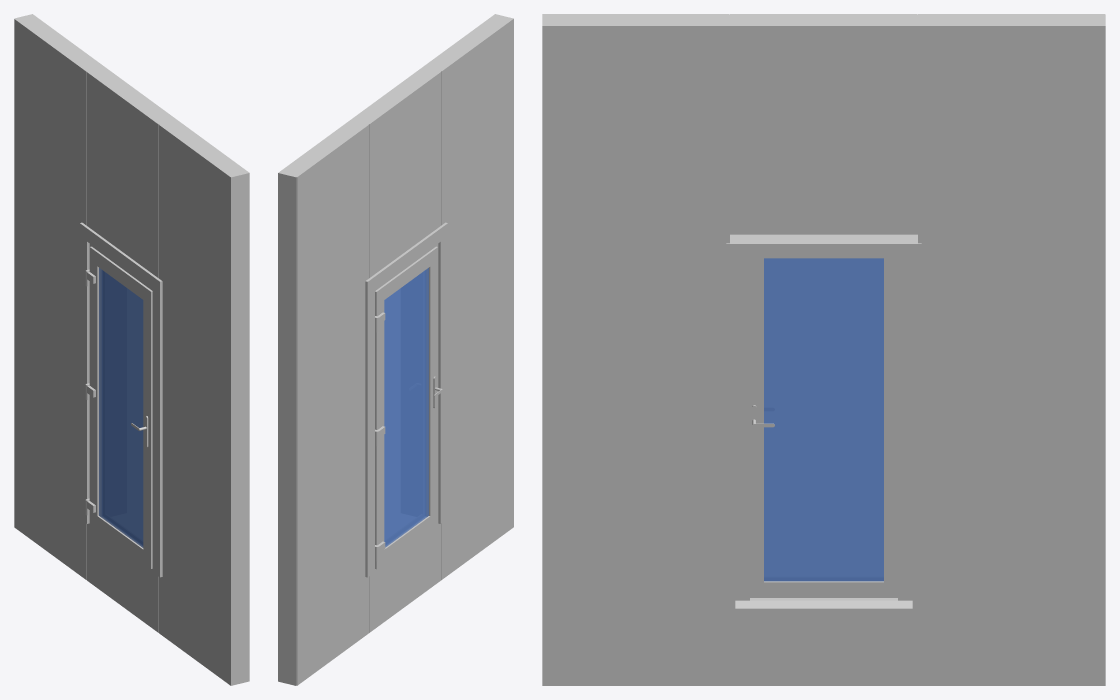
Rendered from door_1x2.fbx.
3 views of the same model, side by side, from view 1: azimuth 30°, elevation 25°; view 2: azimuth 150°, elevation 25°; view 3: azimuth 270°, elevation 25° (orthographic). The views are drawn at different scales.
Parts seen in each view (by area): view 1: Group3, Group6, Group13, Group2, Group4, Group5, Group1, Group12; view 2: Group6, Group3, Group13, Group2, Group4, Group5, Group1, Group12; view 3: Group3, Group6, Group2, Group5, Group4, Group12, Group1.
Part boxes in pixels (left/top/right/bottom): Group3: left=159, top=120, right=249, bottom=685; Group6: left=14, top=14, right=104, bottom=579; Group13: left=79, top=222, right=162, bottom=577; Group2: left=86, top=67, right=176, bottom=278; Group4: left=99, top=268, right=143, bottom=547; Group5: left=102, top=270, right=142, bottom=545; Group1: left=86, top=523, right=158, bottom=632; Group12: left=99, top=268, right=142, bottom=547; Group6: left=278, top=120, right=369, bottom=685; Group3: left=423, top=14, right=513, bottom=579; Group13: left=365, top=222, right=447, bottom=577; Group2: left=351, top=67, right=441, bottom=277; Group4: left=384, top=267, right=428, bottom=547; Group5: left=385, top=270, right=425, bottom=544; Group1: left=369, top=523, right=441, bottom=632; Group12: left=385, top=268, right=428, bottom=546; Group3: left=542, top=14, right=729, bottom=685; Group6: left=918, top=14, right=1105, bottom=685; Group2: left=730, top=14, right=917, bottom=234; Group5: left=764, top=258, right=883, bottom=581; Group4: left=764, top=259, right=883, bottom=580; Group12: left=726, top=234, right=921, bottom=621; Group1: left=730, top=609, right=917, bottom=685.
Size of the model in its own units: 393 by 3877 by 3000.
